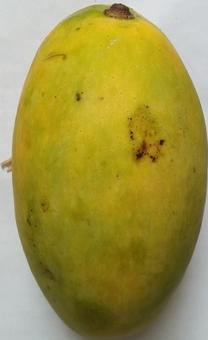PartiallyRipe: (1, 1, 208, 340)
